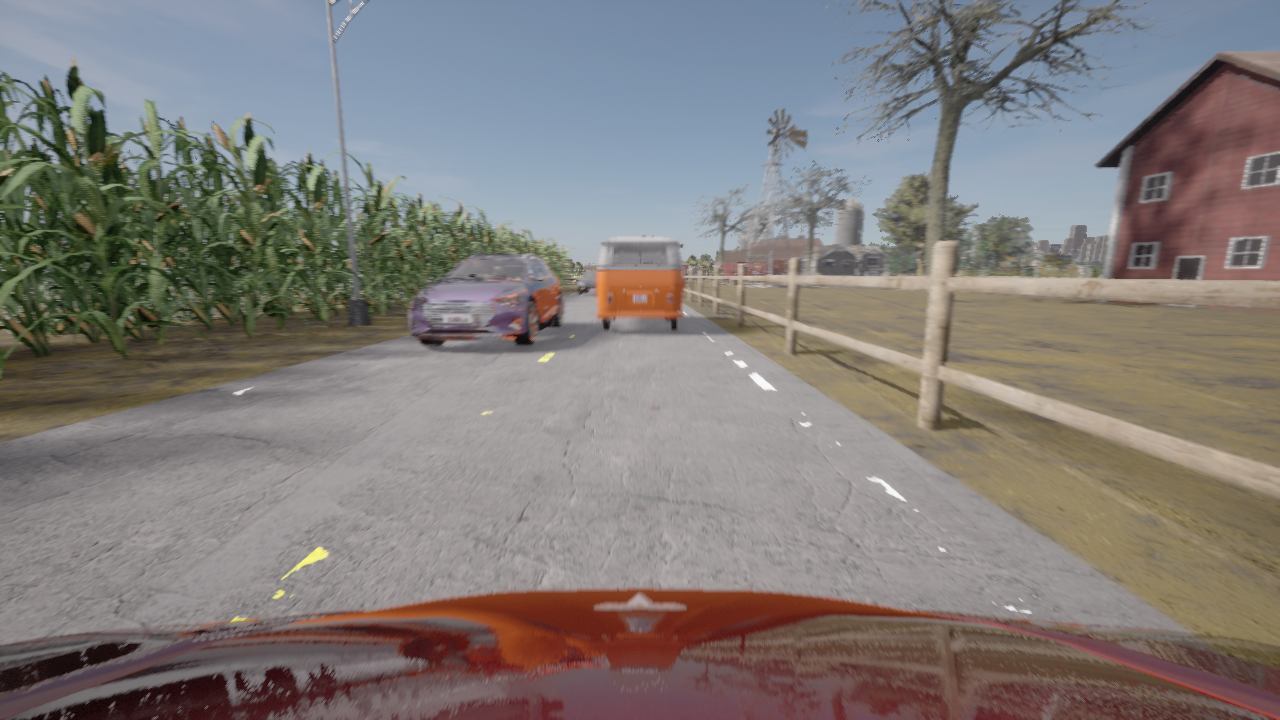cyclist: (0, 588, 1279, 719), (409, 254, 563, 345), (596, 237, 683, 330), (577, 271, 596, 295)
